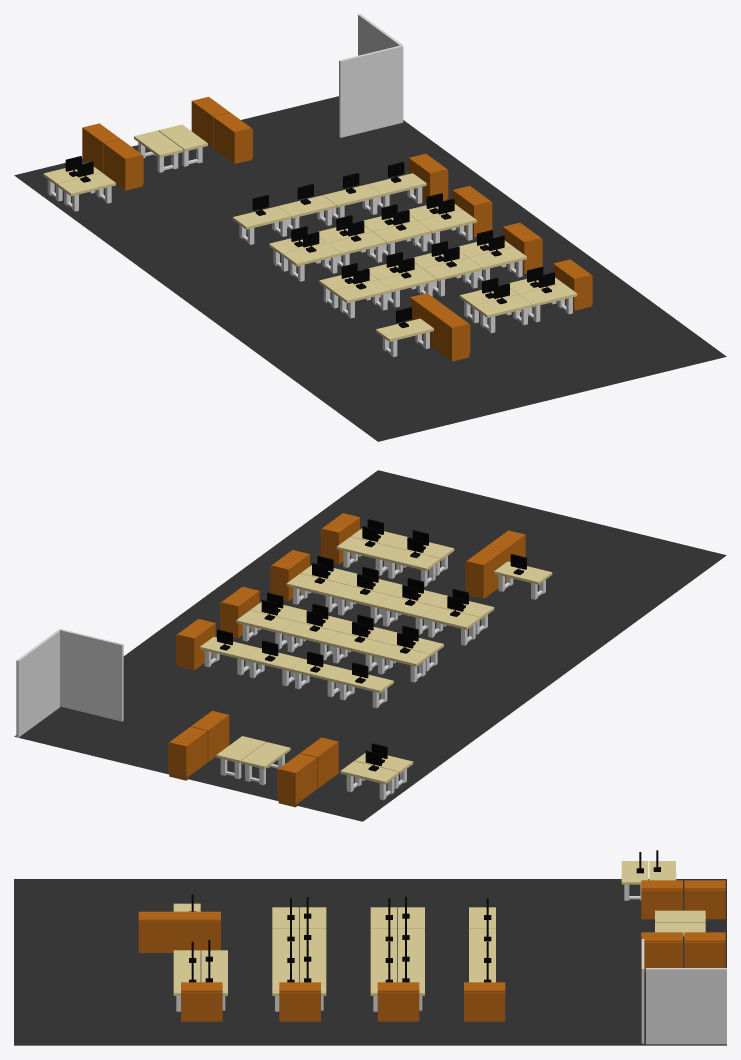
The model's file is class.glb.
3 views of the same model, one above another, from view 1: azimuth 30°, elevation 25°; view 2: azimuth 150°, elevation 25°; view 3: azimuth 270°, elevation 25° (orthographic). The views are drawn at different scales.
Parts seen in each view (by area): view 1: 平面, Cube, 立方体.231, 立方体.018, 立方体.016, computer.018, computer.024, computer.001, computer.010, computer.027, computer.026, computer.004 (+23 smaller); view 2: 平面, Cube, Cube.001, 立方体.017, 立方体.019, 立方体.230, computer.028, 立方体.014, computer.021, computer.013, computer.005, computer.015 (+30 smaller); view 3: 平面, Cube.001, 立方体.231, 立方体.013, 立方体.007, 立方体.012, 立方体.014, 立方体.230, 立方体.019, 立方体.017, 立方体.018, 立方体.016 (+28 smaller).
Boxes of the visible parts, x1,y1,x2,y2 form: 平面: (14,96,726,441); Cube: (339,45,403,137); 立方体.231: (431,308,470,361); 立方体.018: (213,112,252,163); 立方体.016: (104,139,143,190); computer.018: (283,232,341,281); computer.024: (232,195,291,244); computer.001: (473,283,532,333); computer.010: (333,268,391,318); computer.027: (57,161,115,211); computer.026: (376,307,433,357); computer.004: (519,272,577,322); 平面: (14,470,726,821); Cube: (59,629,123,721); Cube.001: (16,630,59,737); 立方体.017: (277,753,316,807); 立方体.019: (168,726,207,780); 立方体.230: (465,545,504,598); computer.028: (340,750,398,800); 立方体.014: (176,619,215,670); computer.021: (371,633,429,682); computer.013: (421,596,480,645); computer.005: (382,537,440,586); computer.015: (236,600,294,649); 平面: (14,879,726,1045); Cube.001: (646,968,726,1044); 立方体.231: (138,911,179,952); 立方体.013: (377,982,419,1021); 立方体.007: (181,982,222,1021); 立方体.012: (279,982,320,1021); 立方体.014: (464,982,505,1021); 立方体.230: (179,911,220,952); 立方体.019: (684,932,725,967); 立方体.017: (684,880,725,919); 立方体.018: (641,932,682,971); 立方体.016: (641,880,682,919).
Bounding box in the file's own units: 32.06 × 6.97 × 57.97.
